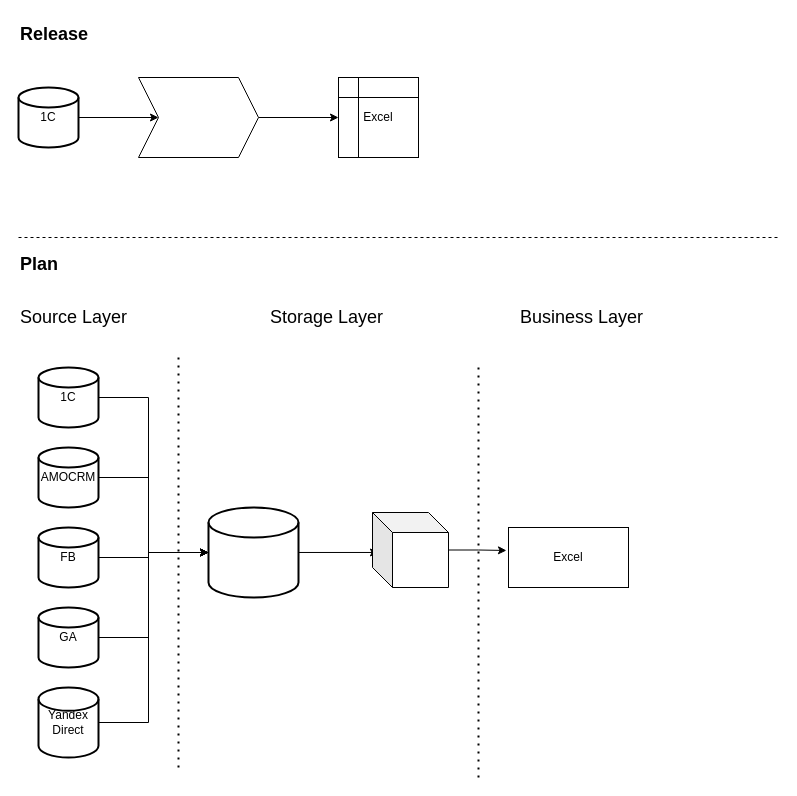
This 797x796 diagram has some shape labels left out. The shapes that lost their labels are listed below. From the top down, each one's centre as x and y in pixels, then its label:
(198,117): Loginom
(253,552): DWH
(410,550): OLAP
